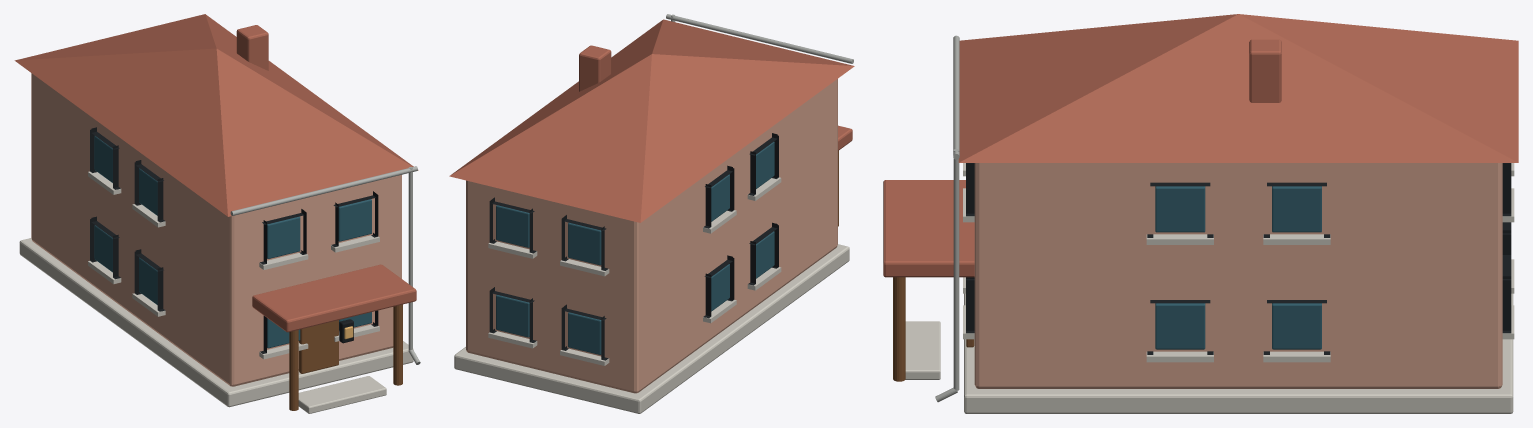
File: RES_LOW_1x2_009.glb
3 views of the same model, side by side, from view 1: azimuth 30°, elevation 25°; view 2: azimuth 150°, elevation 25°; view 3: azimuth 270°, elevation 25° (orthographic). The views are drawn at different scales.
Visible parts, largest first — view 1: RES_LOW_1x2_009_Visual; view 2: RES_LOW_1x2_009_Visual; view 3: RES_LOW_1x2_009_Visual.
Part boxes in pixels (left/top/right/bottom): RES_LOW_1x2_009_Visual: left=14, top=14, right=420, bottom=413; RES_LOW_1x2_009_Visual: left=449, top=14, right=854, bottom=413; RES_LOW_1x2_009_Visual: left=883, top=14, right=1518, bottom=413.
Size of what is drawn, in the model's own units: 1.61 by 2.1 by 3.54.
